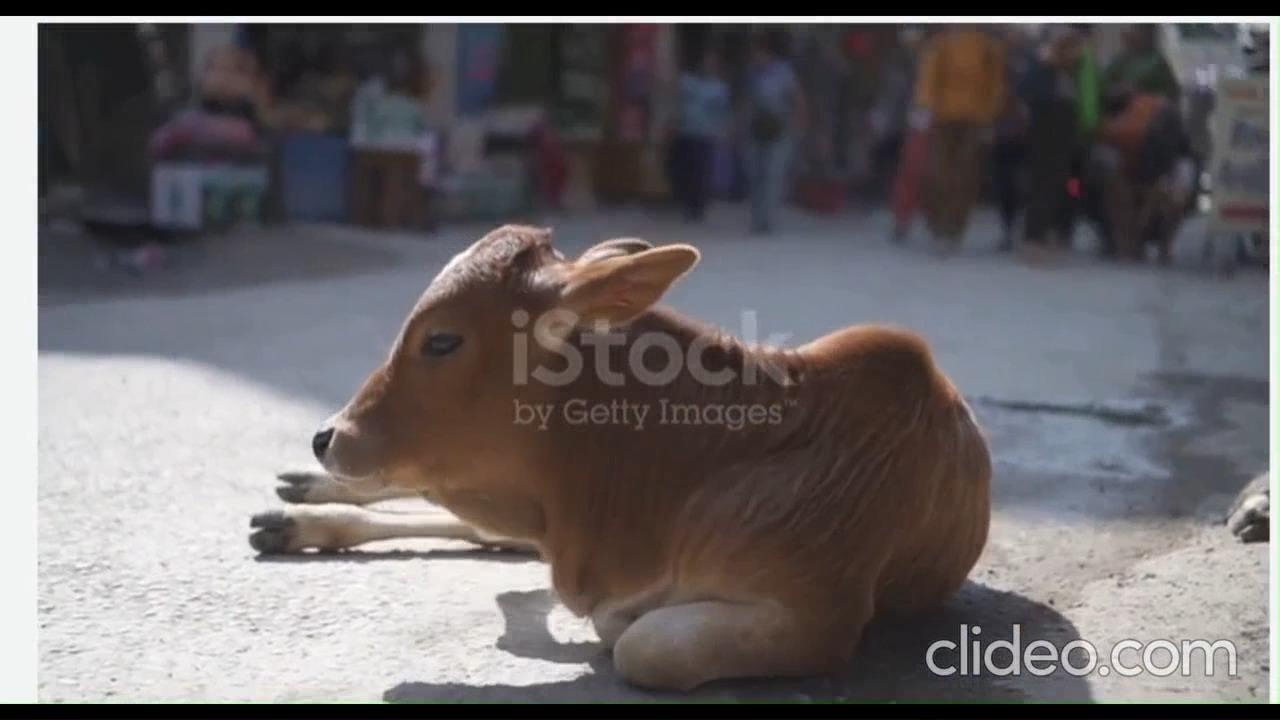Cow: (255, 202, 1003, 675)
